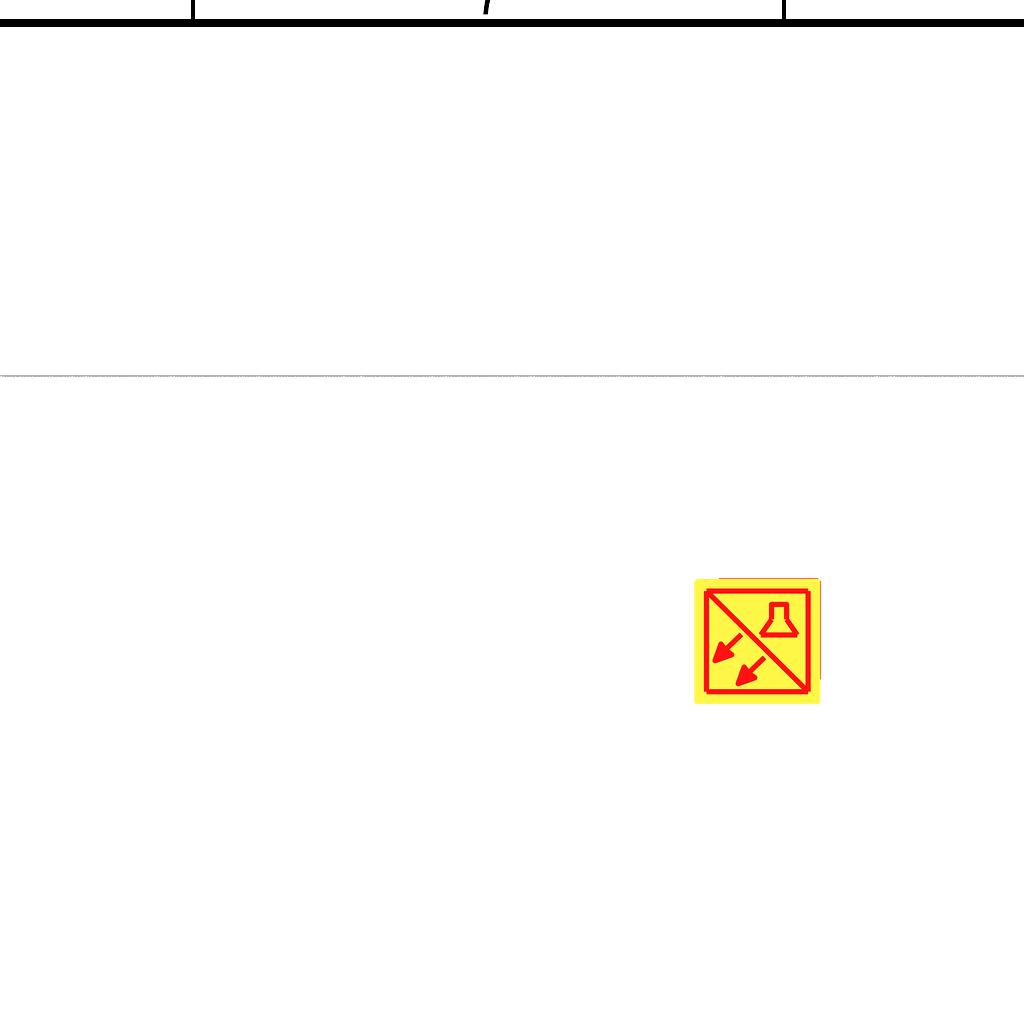OKW_Multisensormelder_(Kombination_optischer_Rauch-Kahlenmonoxid_Waerme-Melder): (691, 575, 823, 707)
